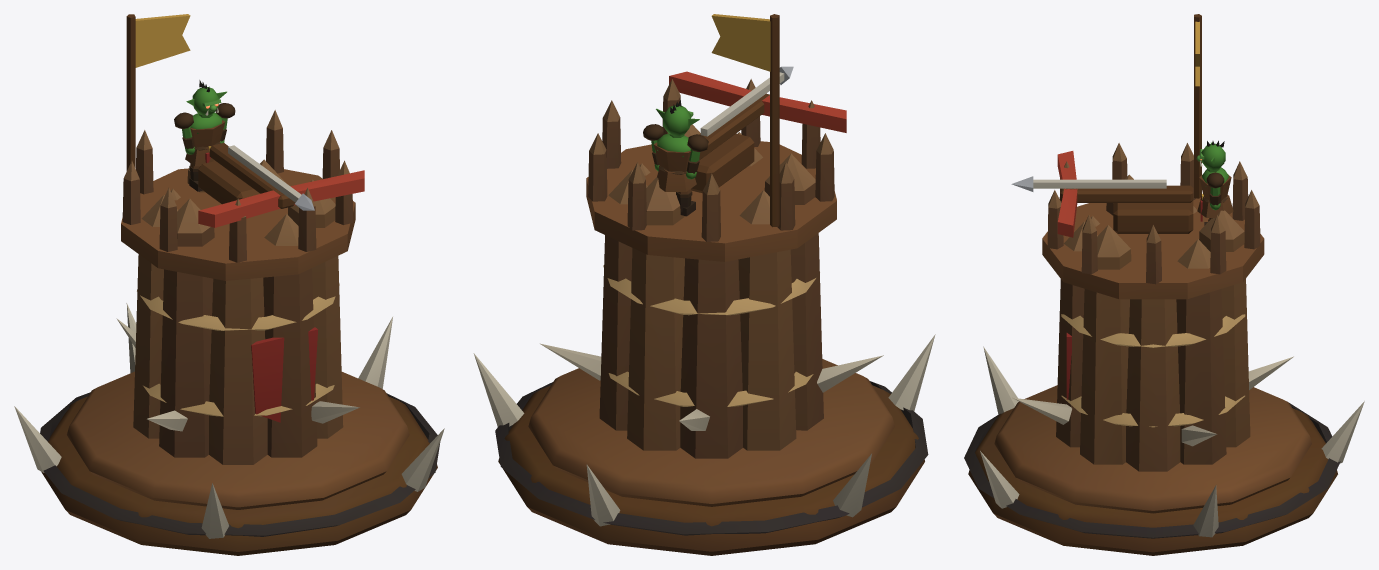
File: horde_6.glb
3 views of the same model, side by side, from view 1: azimuth 30°, elevation 25°; view 2: azimuth 150°, elevation 25°; view 3: azimuth 270°, elevation 25° (orthographic). The views are drawn at different scales.
Visible parts, largest first — view 1: horde_6_peint, Tourelle_peint, Buste_peint, Crane_peint, BrasG_peint; view 2: horde_6_peint, Tourelle_peint, Buste_peint, Crane_peint, BrasG_peint; view 3: horde_6_peint, Tourelle_peint, Buste_peint, Crane_peint.
Part boxes in pixels (left/top/right/bottom): horde_6_peint: left=14, top=14, right=444, bottom=555; Tourelle_peint: left=198, top=143, right=364, bottom=227; Buste_peint: left=185, top=112, right=225, bottom=166; Crane_peint: left=186, top=80, right=226, bottom=115; BrasG_peint: left=174, top=112, right=195, bottom=154; horde_6_peint: left=473, top=14, right=935, bottom=555; Tourelle_peint: left=669, top=66, right=846, bottom=193; Buste_peint: left=653, top=133, right=696, bottom=191; Crane_peint: left=656, top=100, right=699, bottom=135; BrasG_peint: left=686, top=134, right=708, bottom=179; horde_6_peint: left=964, top=14, right=1364, bottom=555; Tourelle_peint: left=1011, top=151, right=1193, bottom=237; Buste_peint: left=1197, top=167, right=1233, bottom=221; Crane_peint: left=1196, top=140, right=1225, bottom=170.
Bounding box in the file's own units: 0.9055 × 1.06 × 0.9027.
